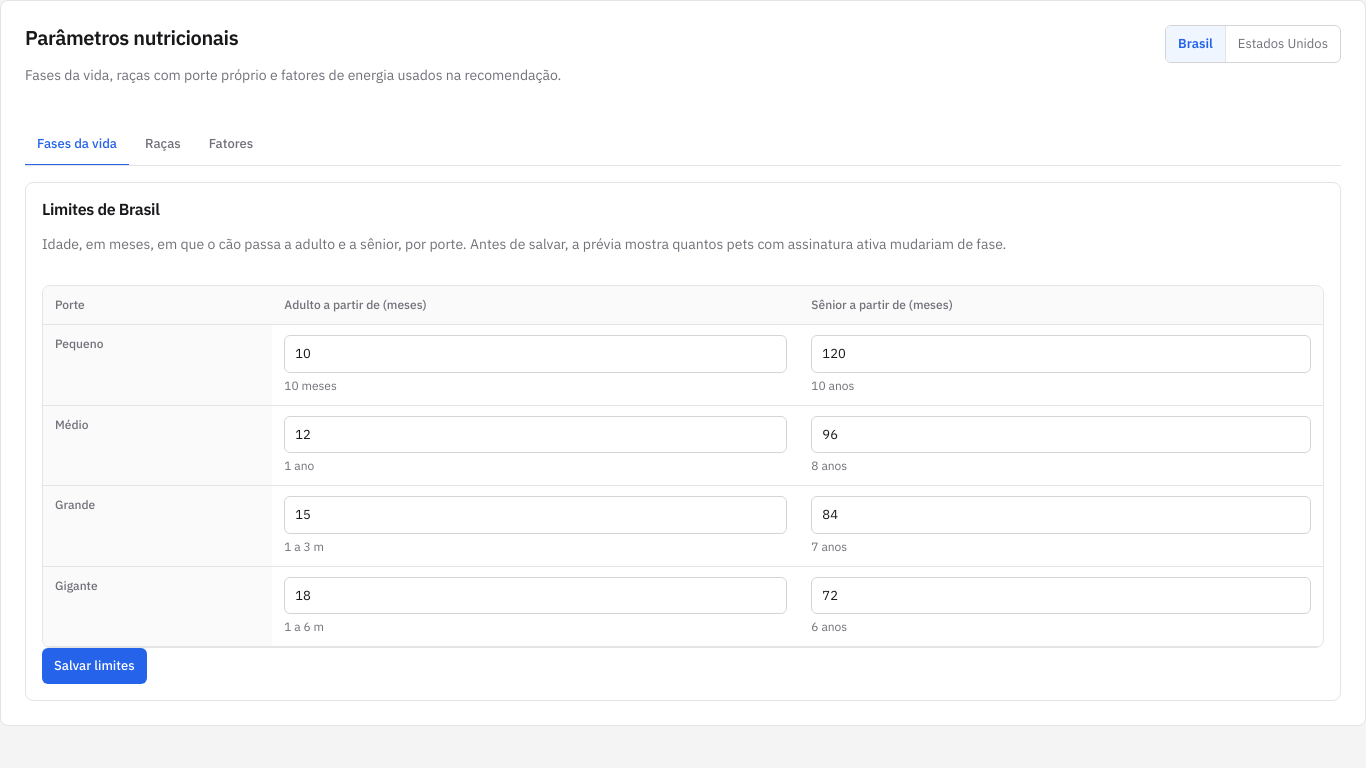
NutritionSettingsPage › Preview before lowering the senior age: saves only after the confirmation
This screenshot has width=1366, height=768.
Expected: the element named "Mercado" is shown, [1165,25,1341,63]
Replace the text in the number field named "Médio: sênior a partir de" with "84" at {"x": 1061, "y": 434}, box [811,416,1311,453]
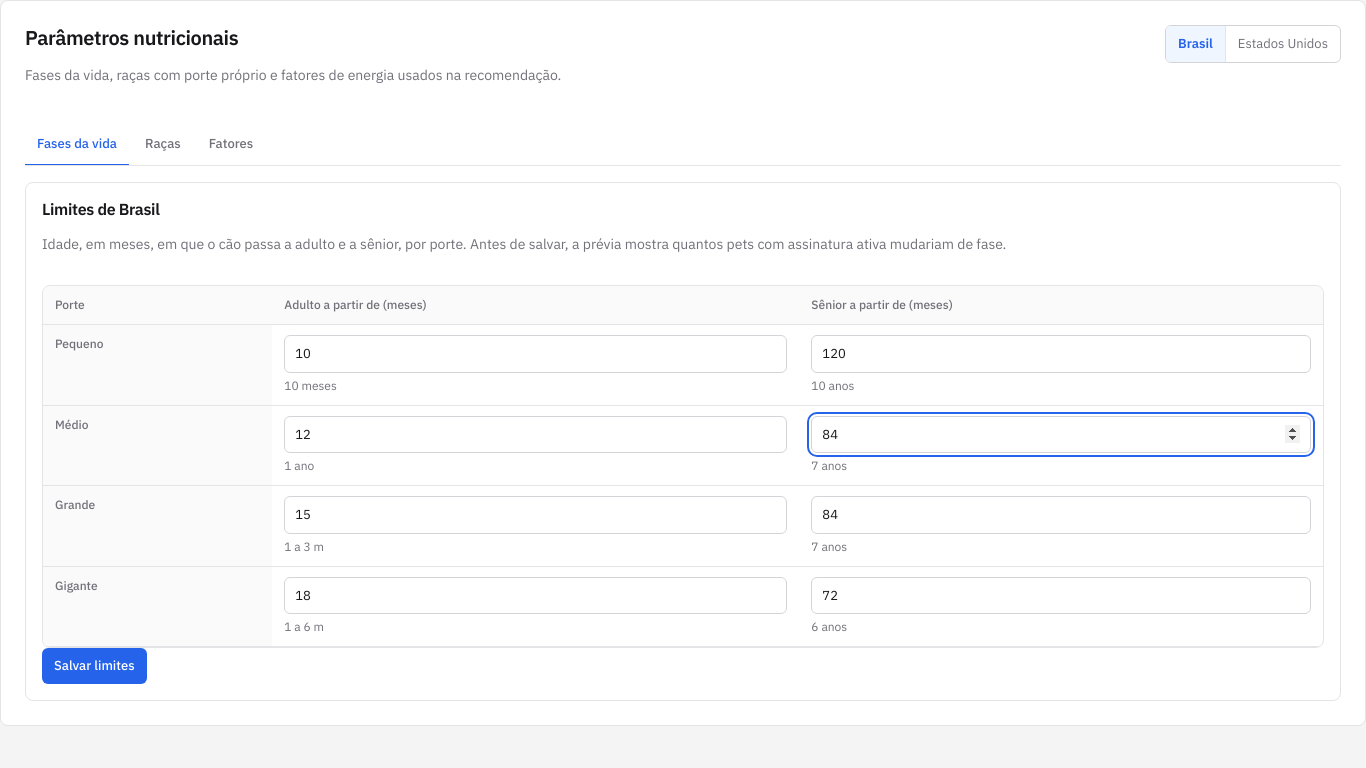
Click the button "Salvar limites".
click(94, 666)  # box [42,648,147,684]
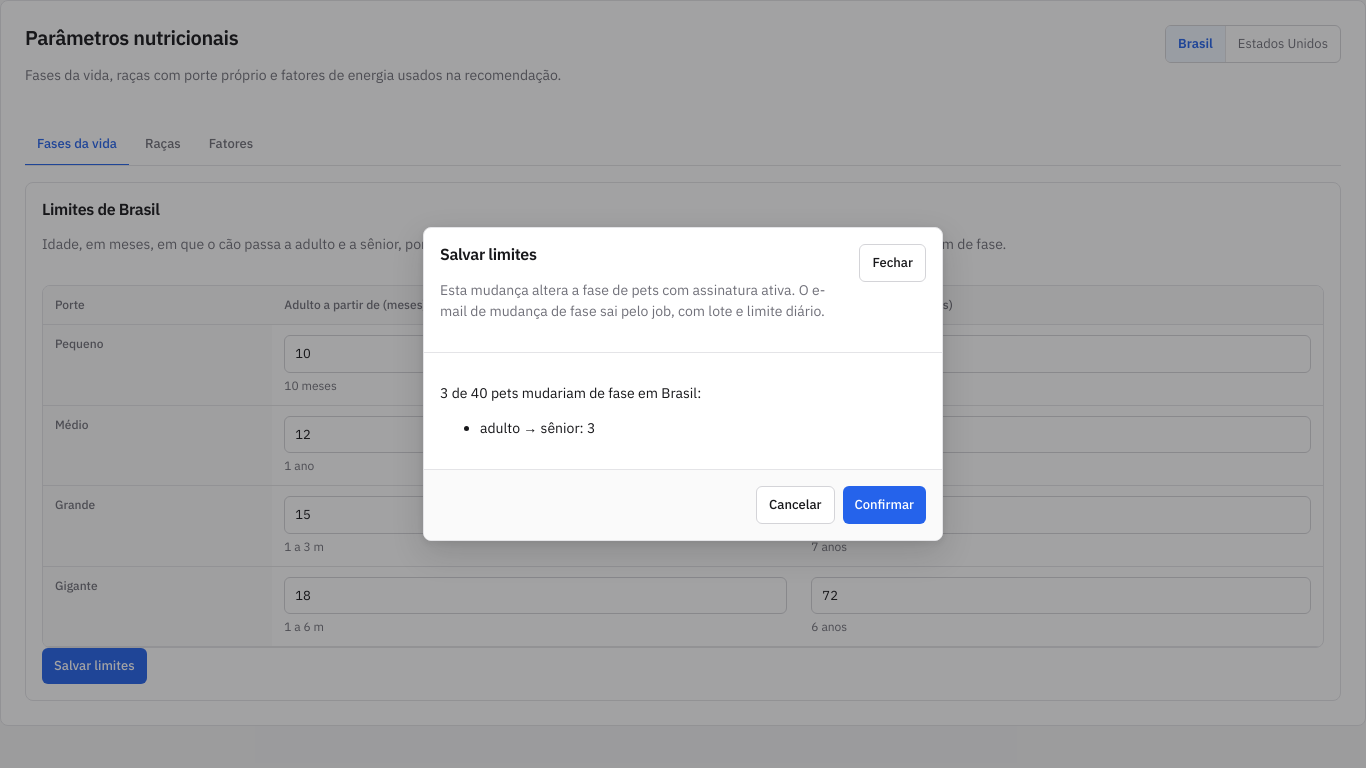
Expected: the text "3 de 40 pets mudariam de fase em Brasil:" is shown, [440,384,701,402]
Expected: the list item "adulto → sênior: 3" is shown, [480,419,595,437]
Click the button "Confirmar".
click(884, 505)  # box [842,486,926,524]
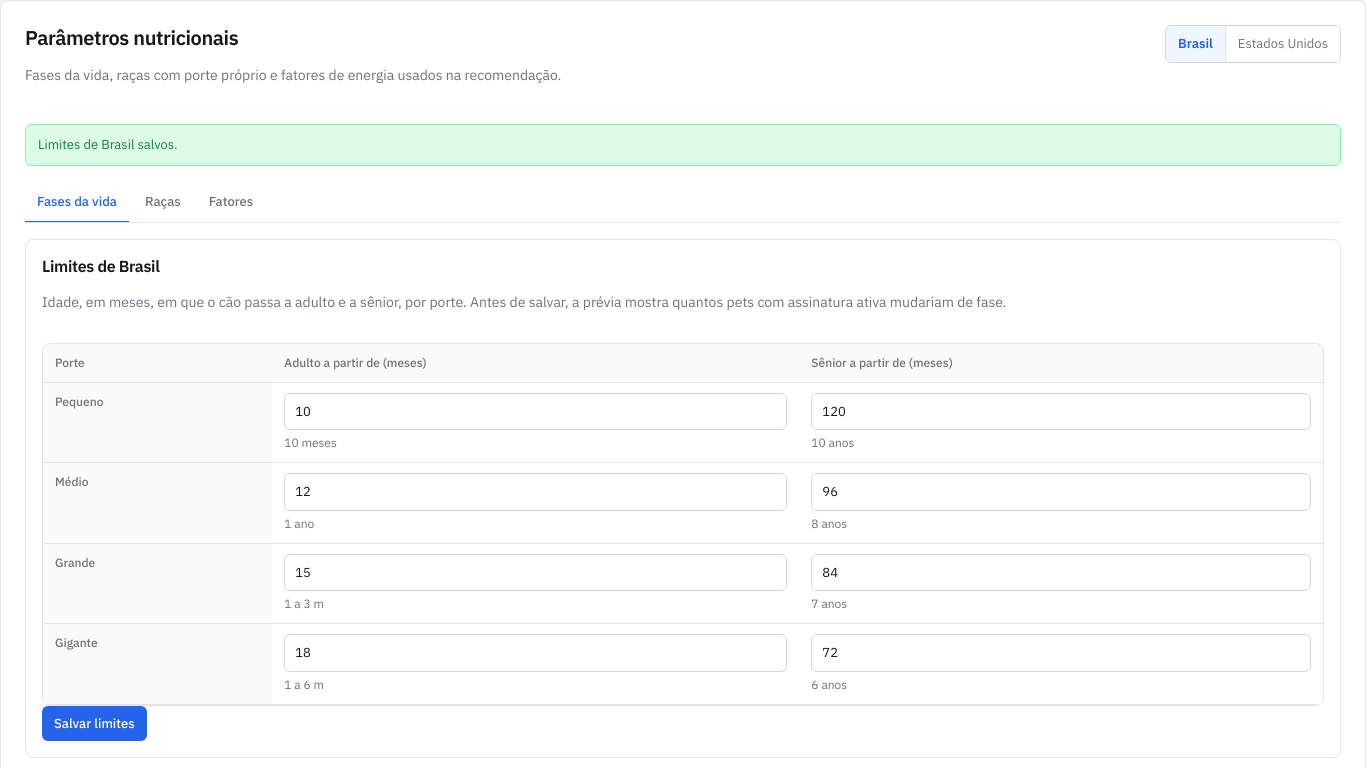
Expected: the text "Limites de Brasil salvos." is shown, [25,124,1341,166]
